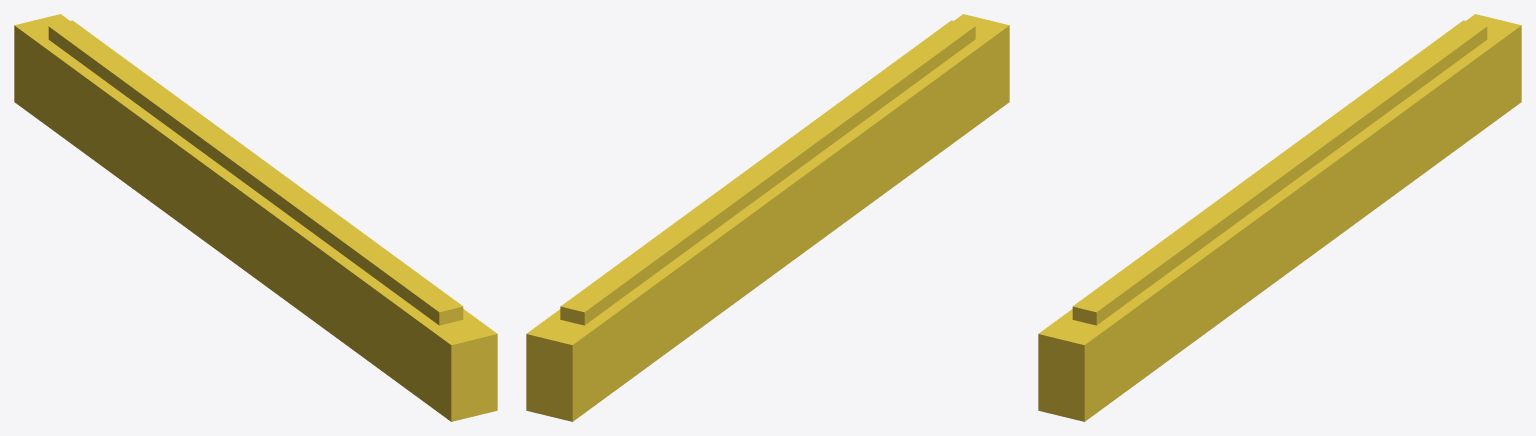
The model's file is level1.4.fbx.
3 renders of one model, left to right at view 1: azimuth 30°, elevation 25°; view 2: azimuth 150°, elevation 25°; view 3: azimuth 330°, elevation 25°, orthographic.
Visible parts, largest first — view 1: Cube.004; view 2: Cube.004; view 3: Cube.004.
Part boxes in pixels (<box>): Cube.004: <box>14,14,497,421</box>; Cube.004: <box>526,14,1009,421</box>; Cube.004: <box>1038,14,1521,421</box>.
Bounding box in the file's own units: 126 × 235 × 2065.
